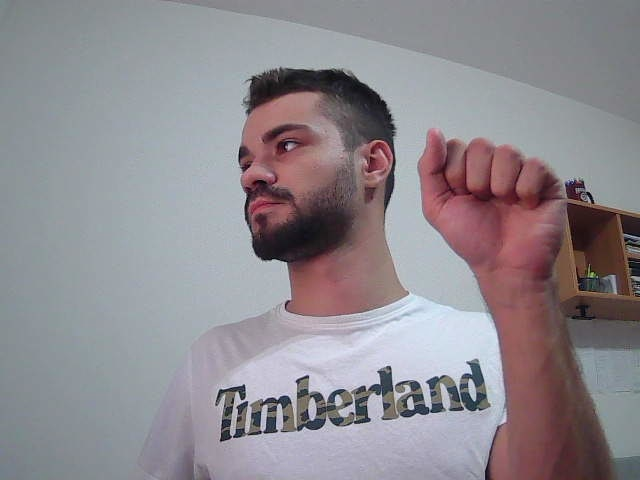a: (401, 117, 604, 472)
